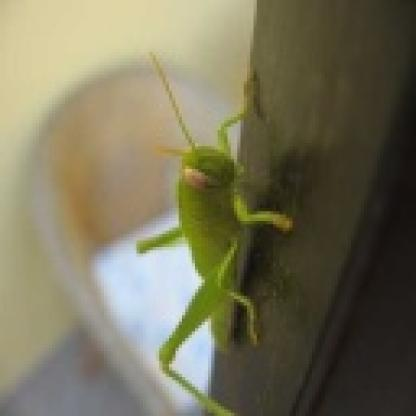grasshopper: (136, 45, 294, 416)
